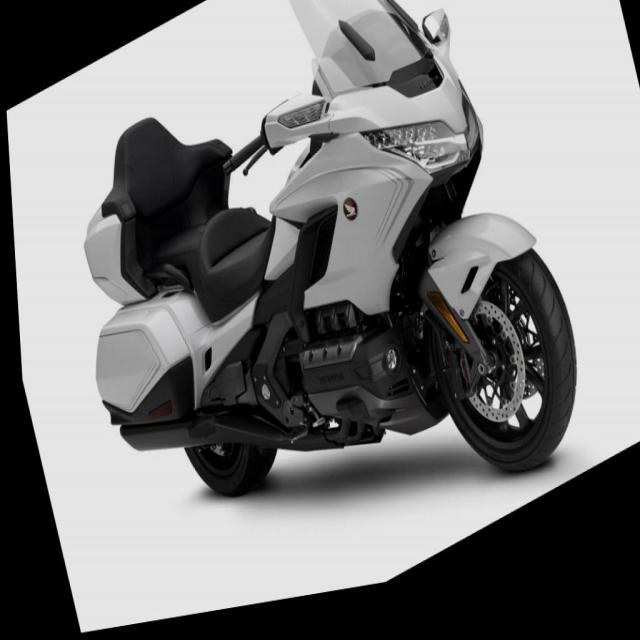Gold Wing: (25, 0, 599, 636)
